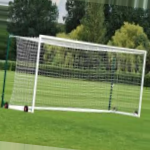goals: (7, 32, 150, 120)
